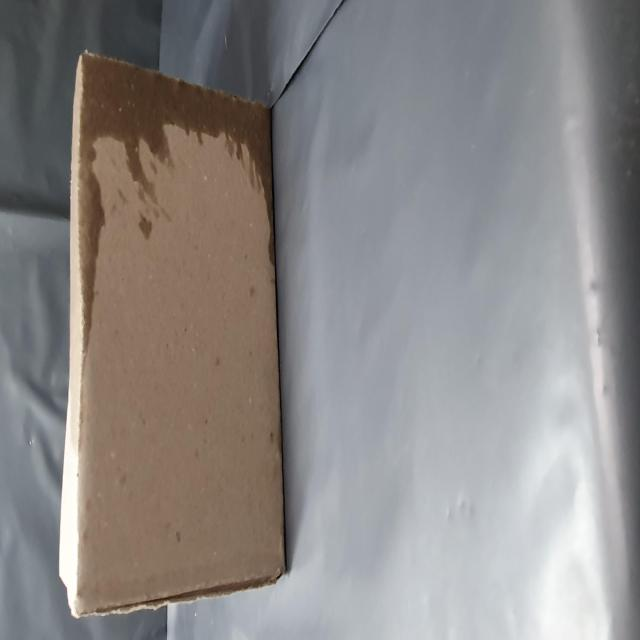wet: (167, 126, 321, 491)
